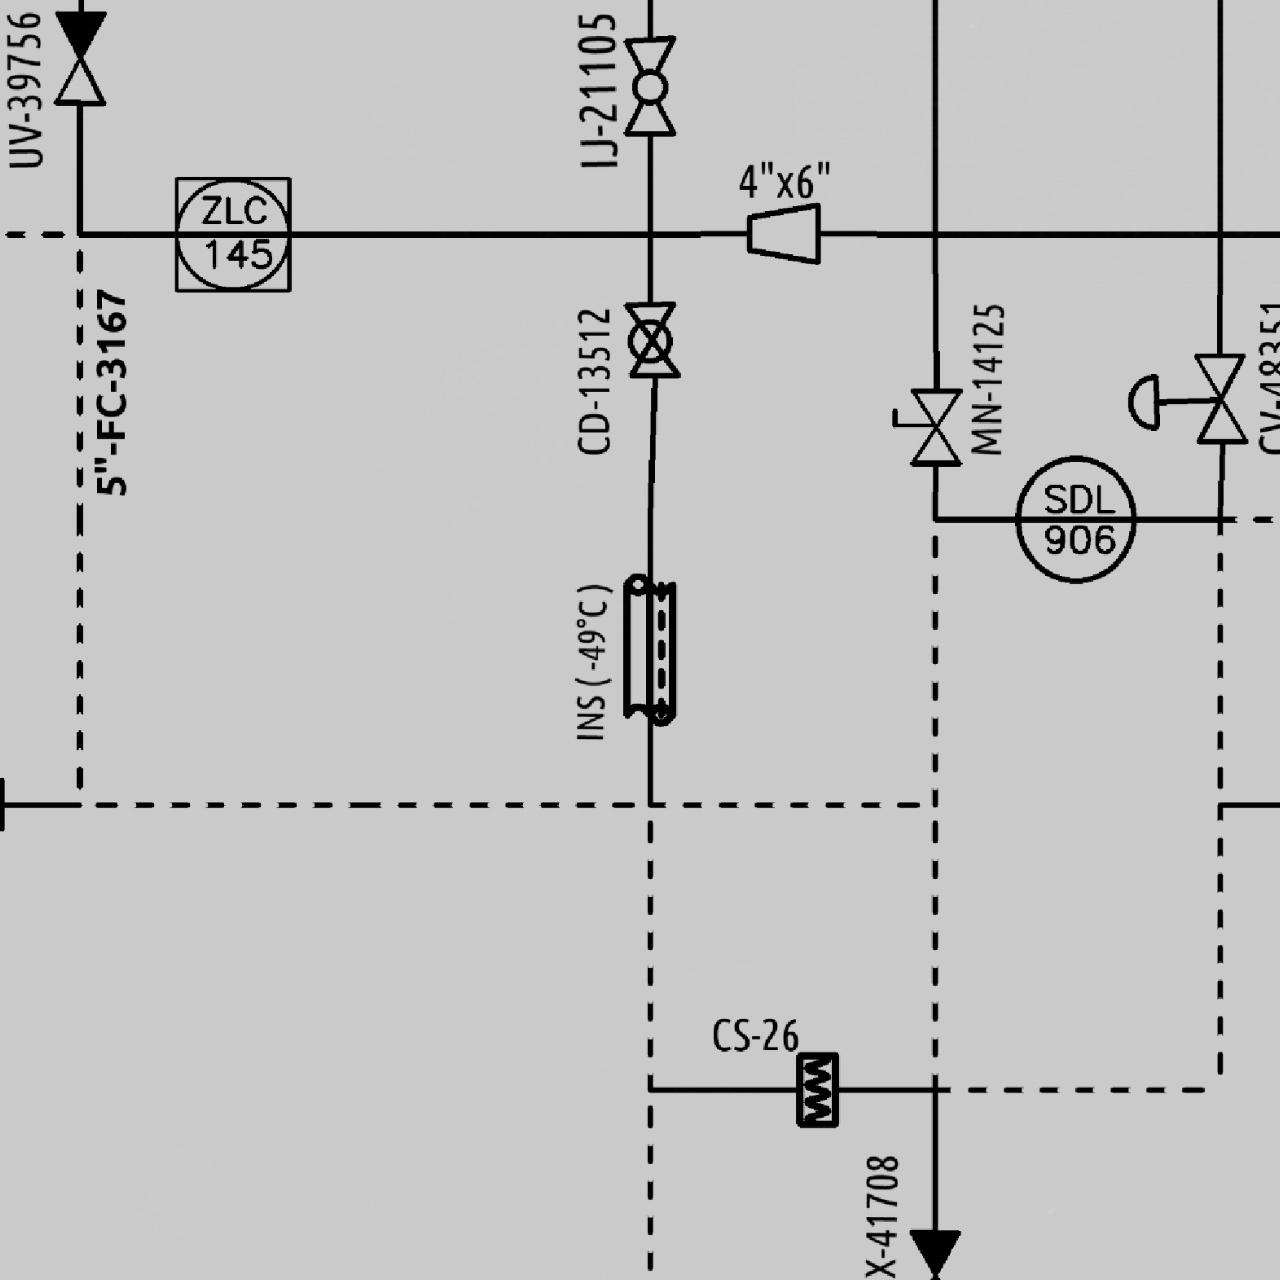Half closed valve: (48, 5, 110, 109)
